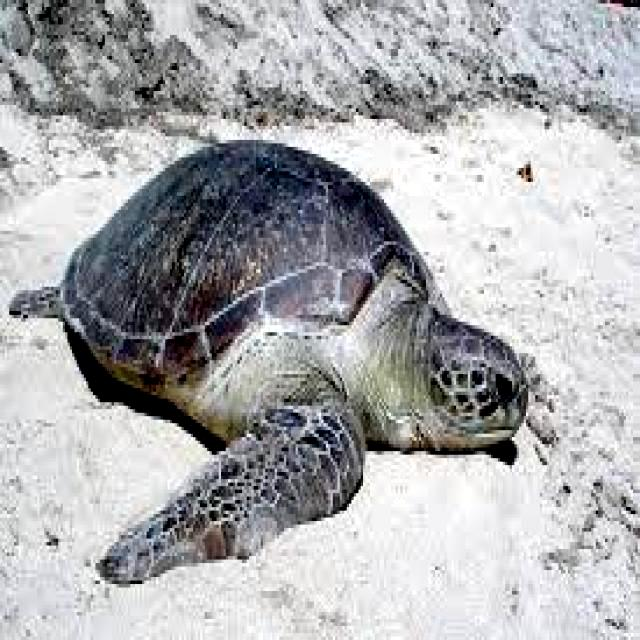Sea turtle: (28, 107, 554, 596)
